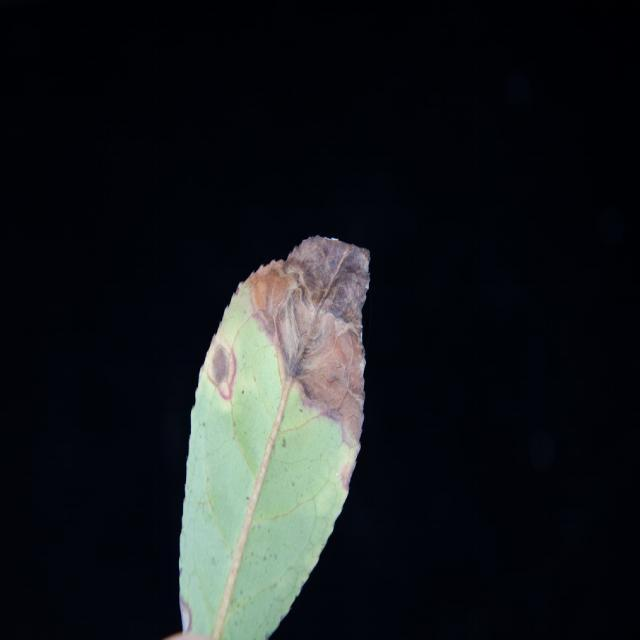Tea cloud leaf blight: (236, 232, 398, 443)
